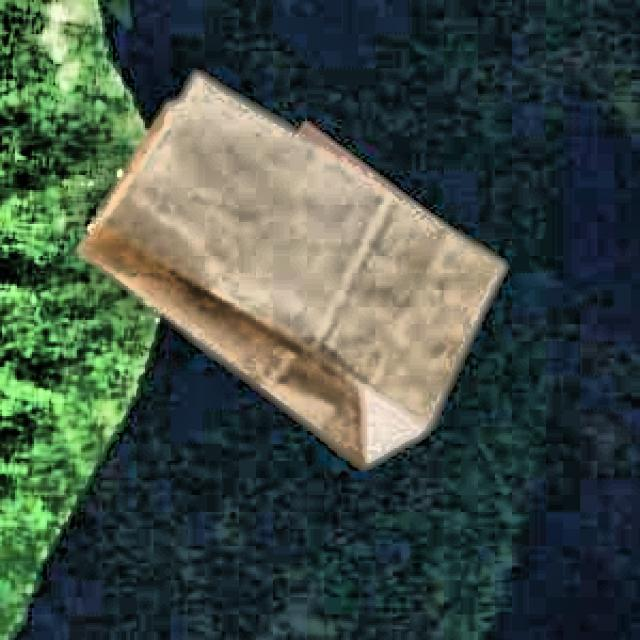Paper-bag: (69, 70, 509, 483)
